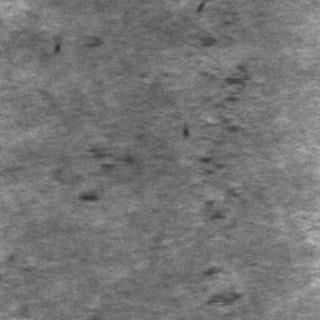rolled pit: (178, 55, 250, 309), (66, 120, 132, 216)
